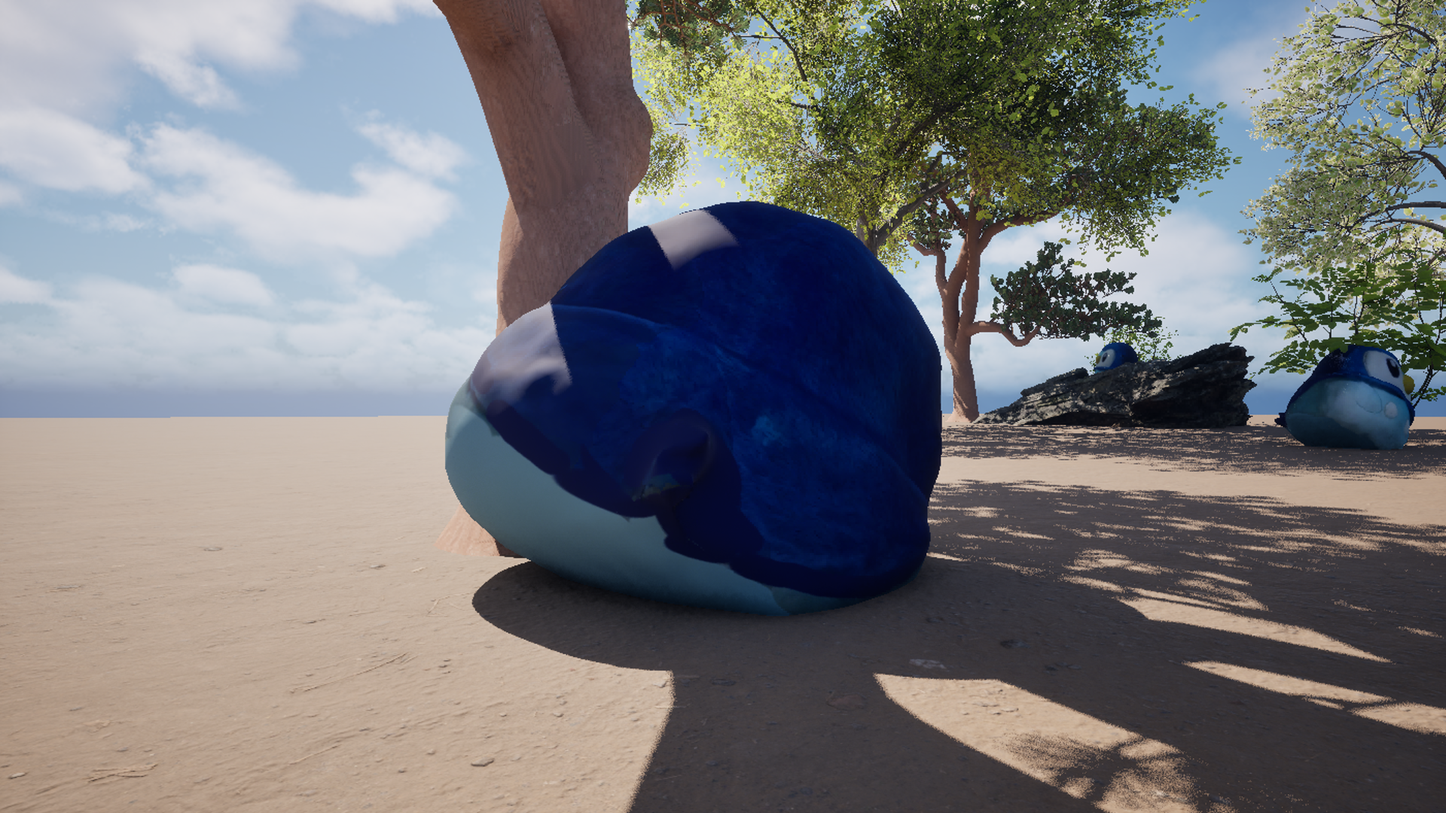Piplup: (138, 0, 1300, 813)
